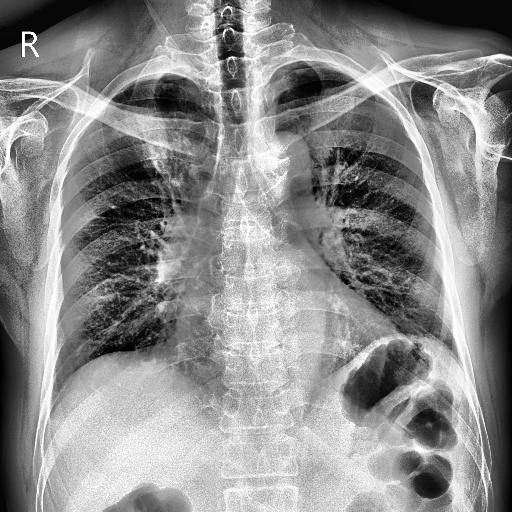0- Aortic enlargement: (246, 131, 318, 203), (246, 130, 316, 201), (252, 132, 312, 190)
3- Cardiomegaly: (165, 312, 401, 392), (173, 288, 406, 364), (174, 296, 408, 348)
